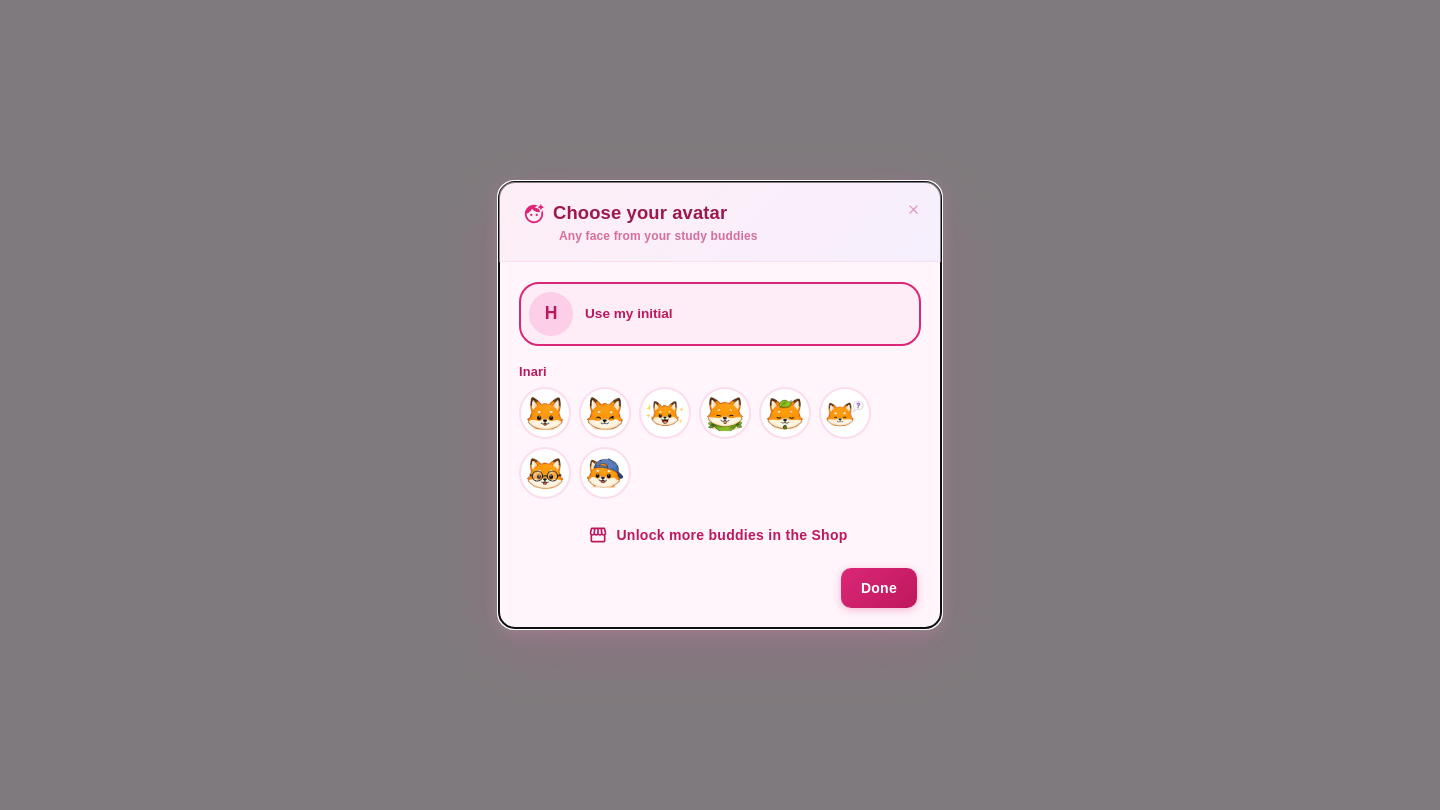
Test: AvatarPickerDialog › surfaces a failed save
The width and height of the screenshot is (1440, 810).
Click the button named "Inari face 1". click: (545, 413)
box: [519,387,571,439]
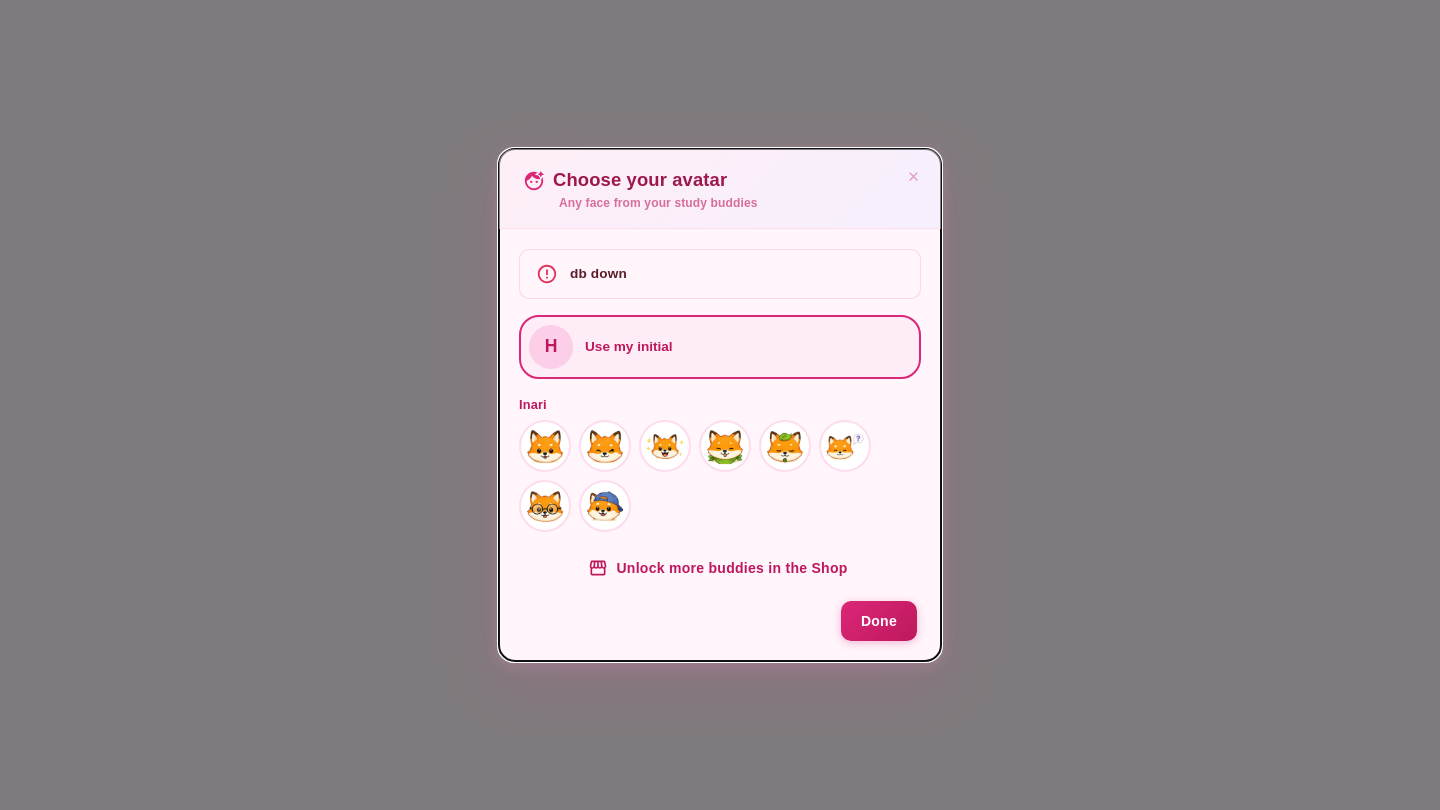
Check: the text "db down" is shown, box [570,266,627,281]
